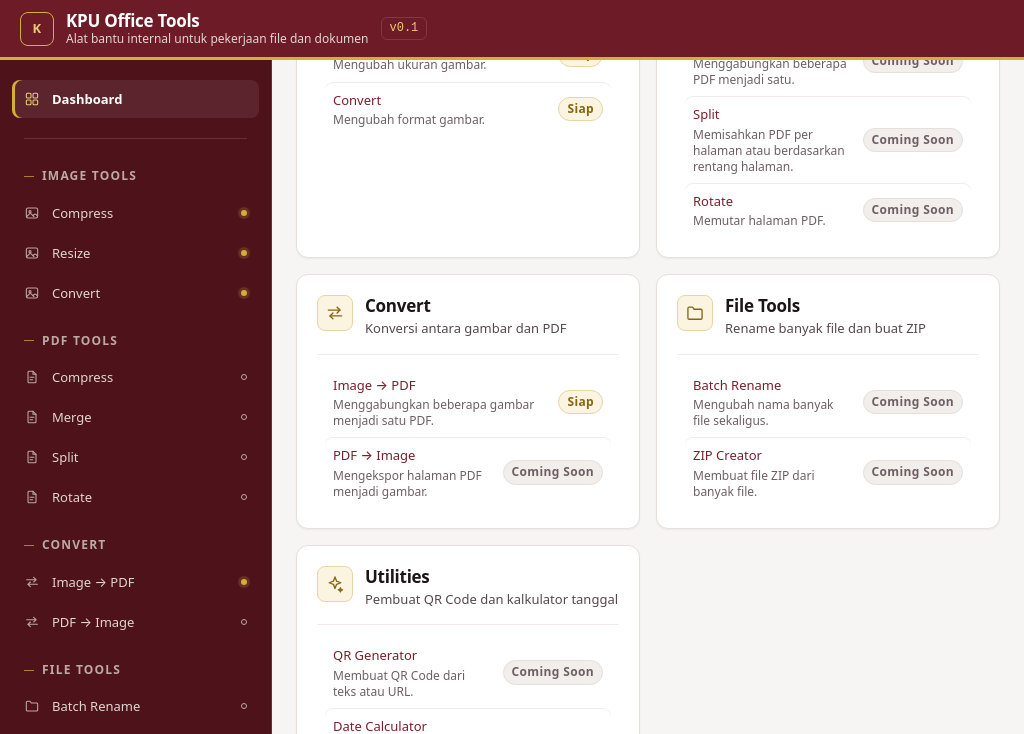
navigasi: interaksi menu › link di Dashboard membuka tool yang dipilih
The width and height of the screenshot is (1024, 734).
(page scrolled)
Click the link "Batch Rename" below "Rename banyak file dan buat ZIP": click(737, 385) x1=693 y1=376 x2=781 y2=394
(page scrolled)
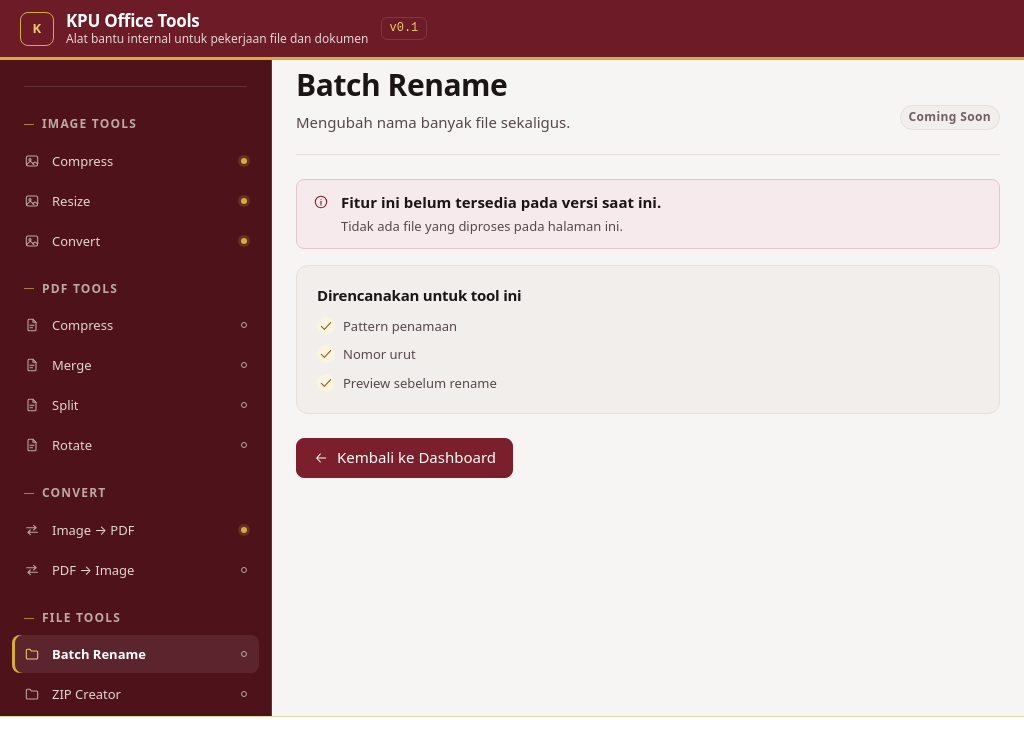
Now the heading "Batch Rename" is shown, box x1=296 y1=64 x2=507 y2=105
